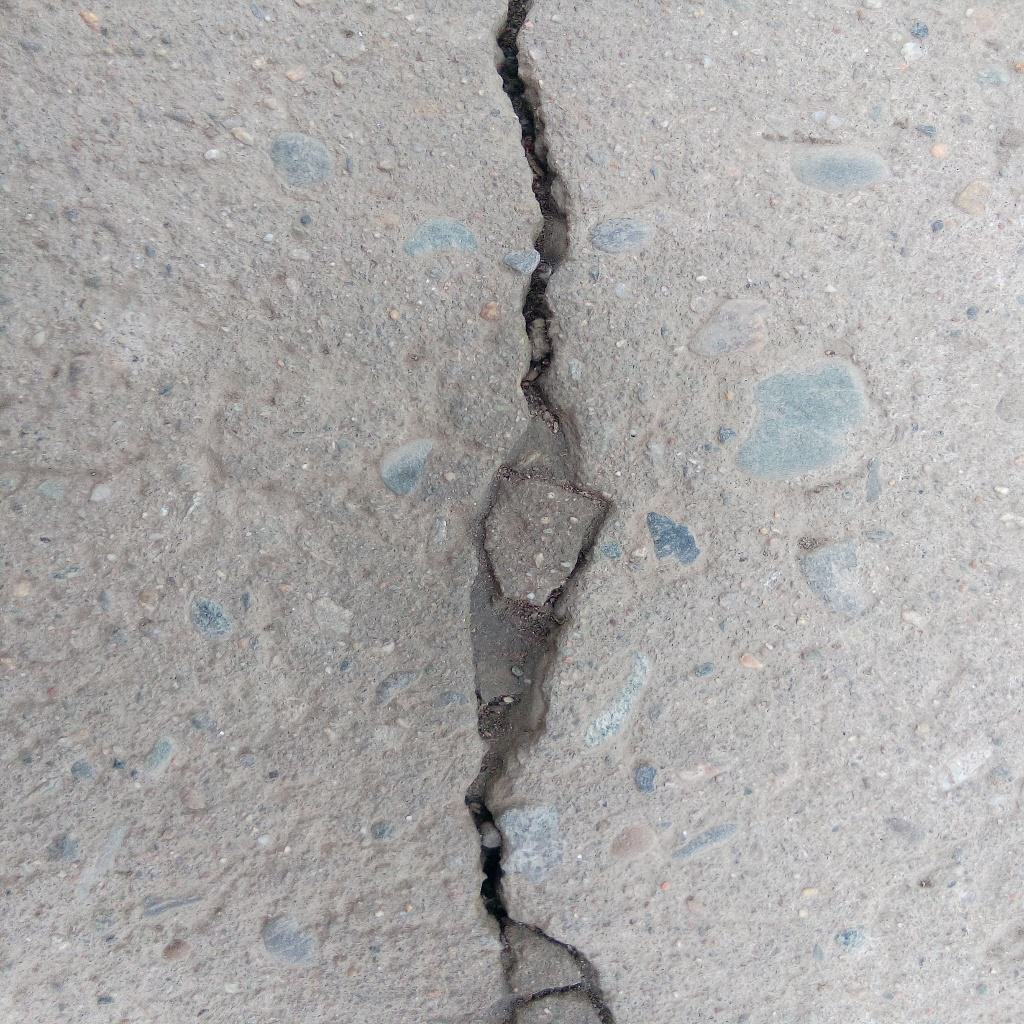Crack: (462, 1, 616, 1024)
